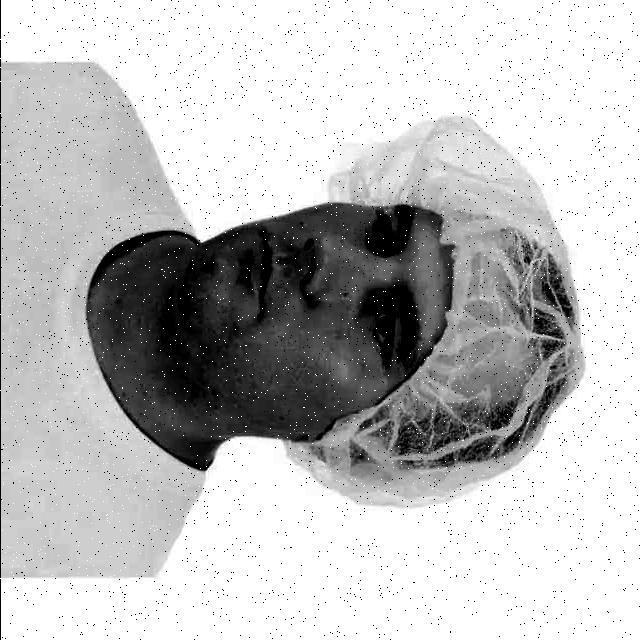no_hairnet: (181, 202, 352, 416)
